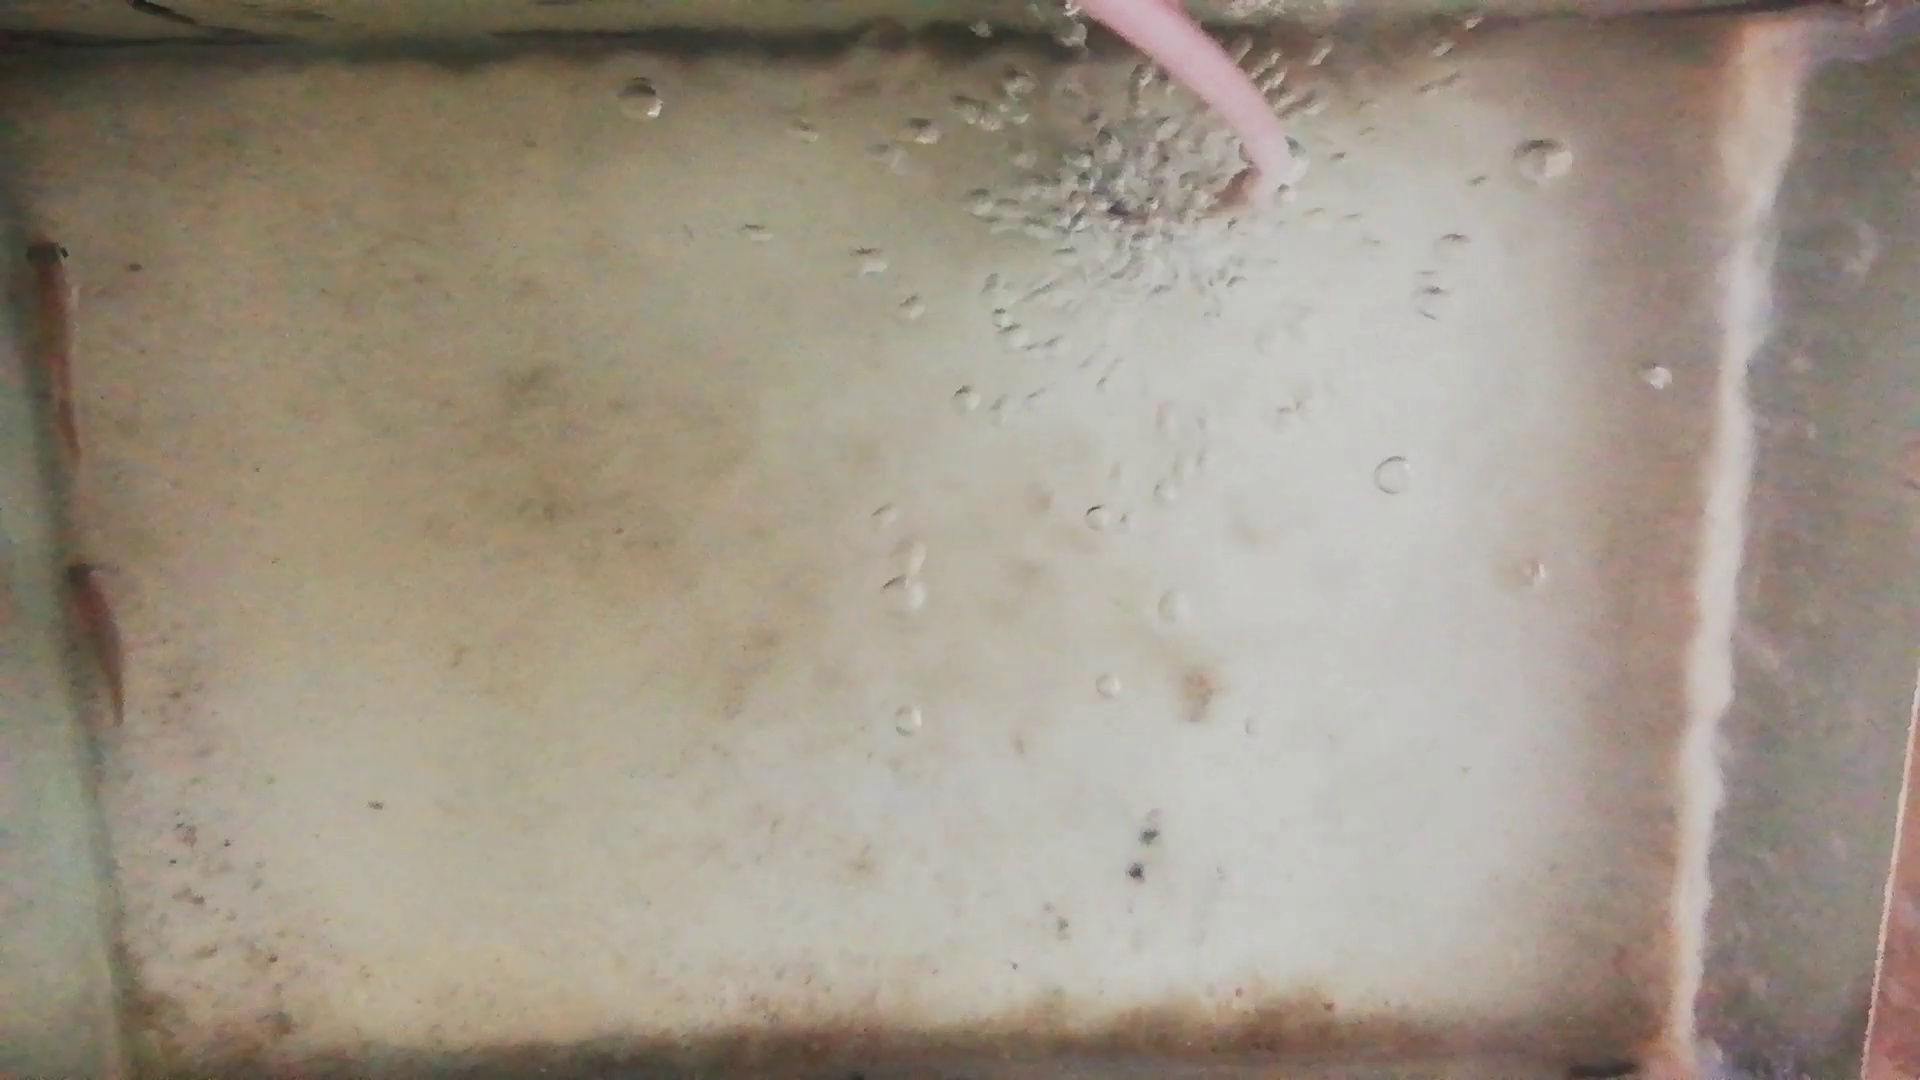fish: (26, 232, 86, 468), (57, 562, 128, 731)
